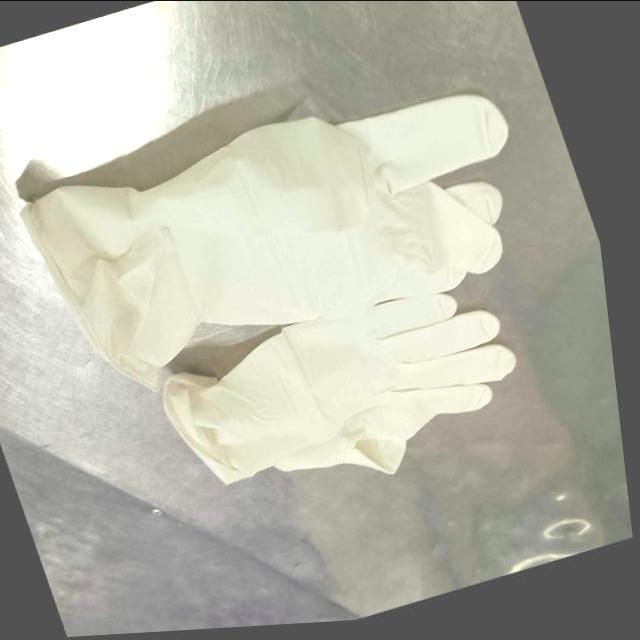General: (1, 3, 636, 638), (15, 90, 517, 487)
Infectious: (161, 293, 516, 486)
